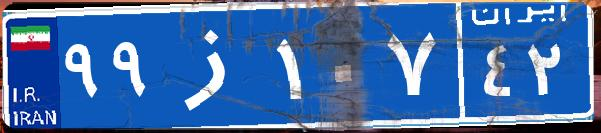0: (330, 28, 385, 110)
1: (273, 28, 330, 110)
2: (525, 38, 570, 115)
4: (475, 38, 525, 113)
7: (385, 28, 445, 110)
9: (57, 26, 110, 107), (110, 28, 158, 105)
ز: (158, 15, 273, 115)
